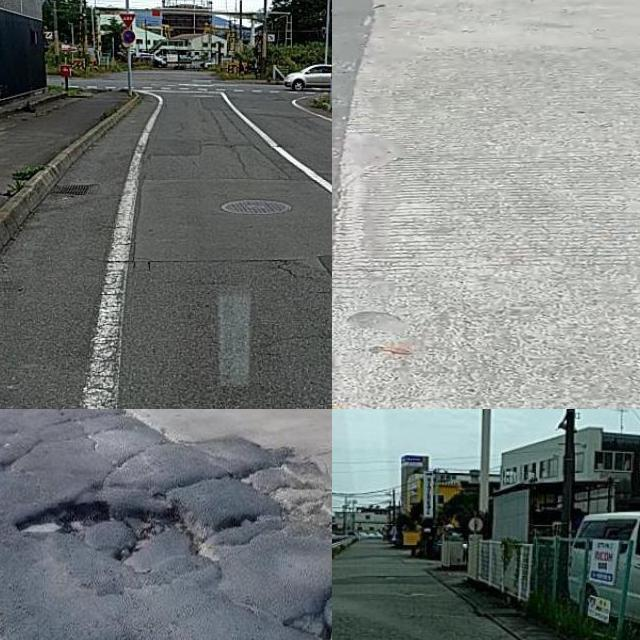Sambungan: (332, 0, 640, 409), (0, 409, 332, 640)
